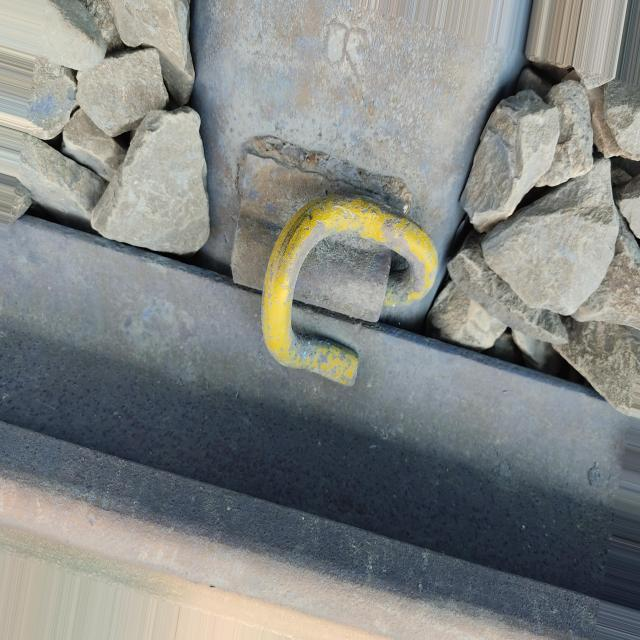Good Fasteners: (198, 127, 446, 424)
